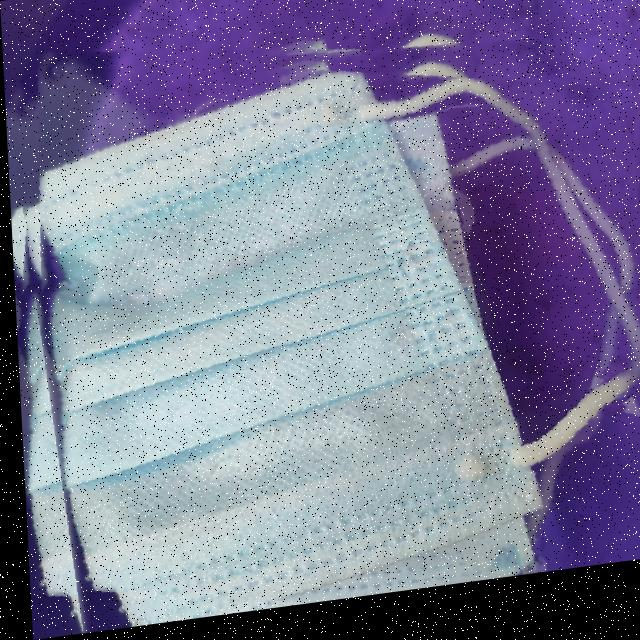litter: (3, 8, 640, 640)
